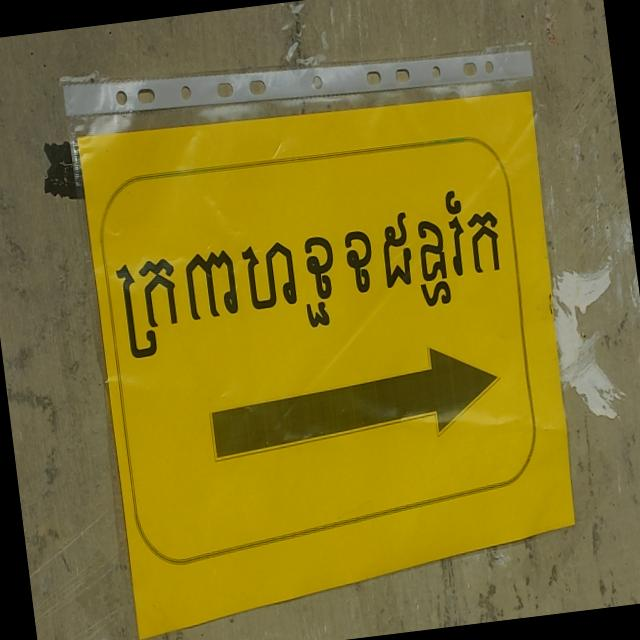Yolov11_80vkh: (105, 172, 515, 367)
